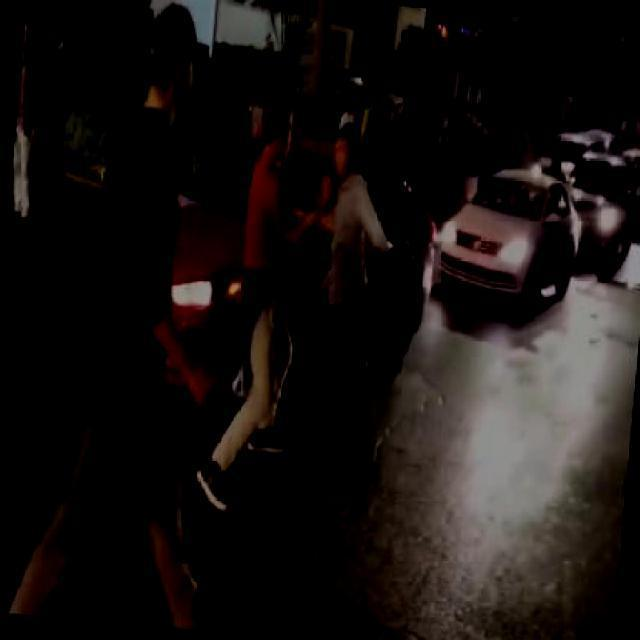fight: (219, 100, 395, 462)
non-fight: (28, 0, 256, 631)
